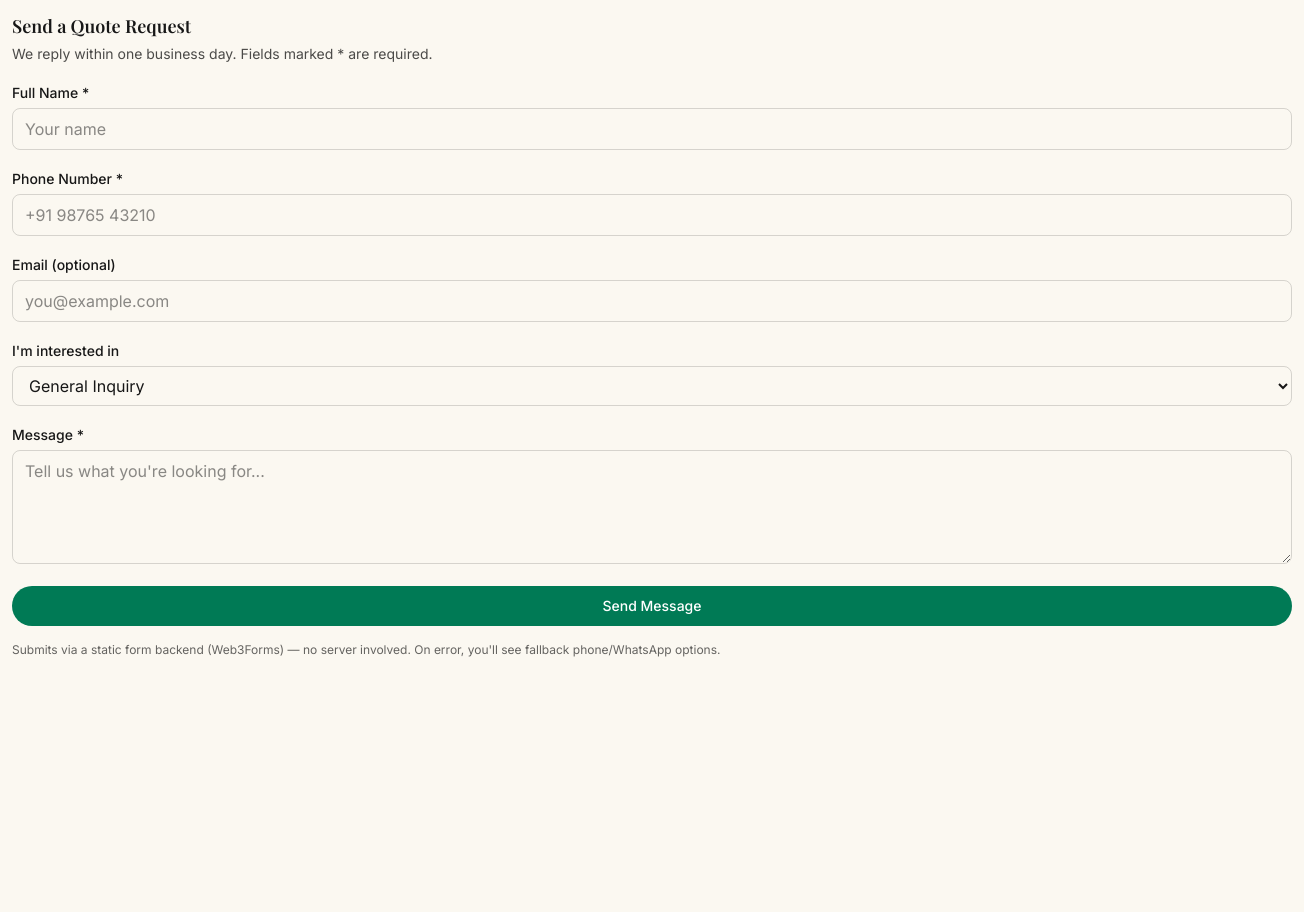
Test: ContactForm › shows a success state on a successful submission
The width and height of the screenshot is (1304, 912).
Type "Anitha R." into the field labelled "Full Name *" at (652,129), box [12,108,1292,150]
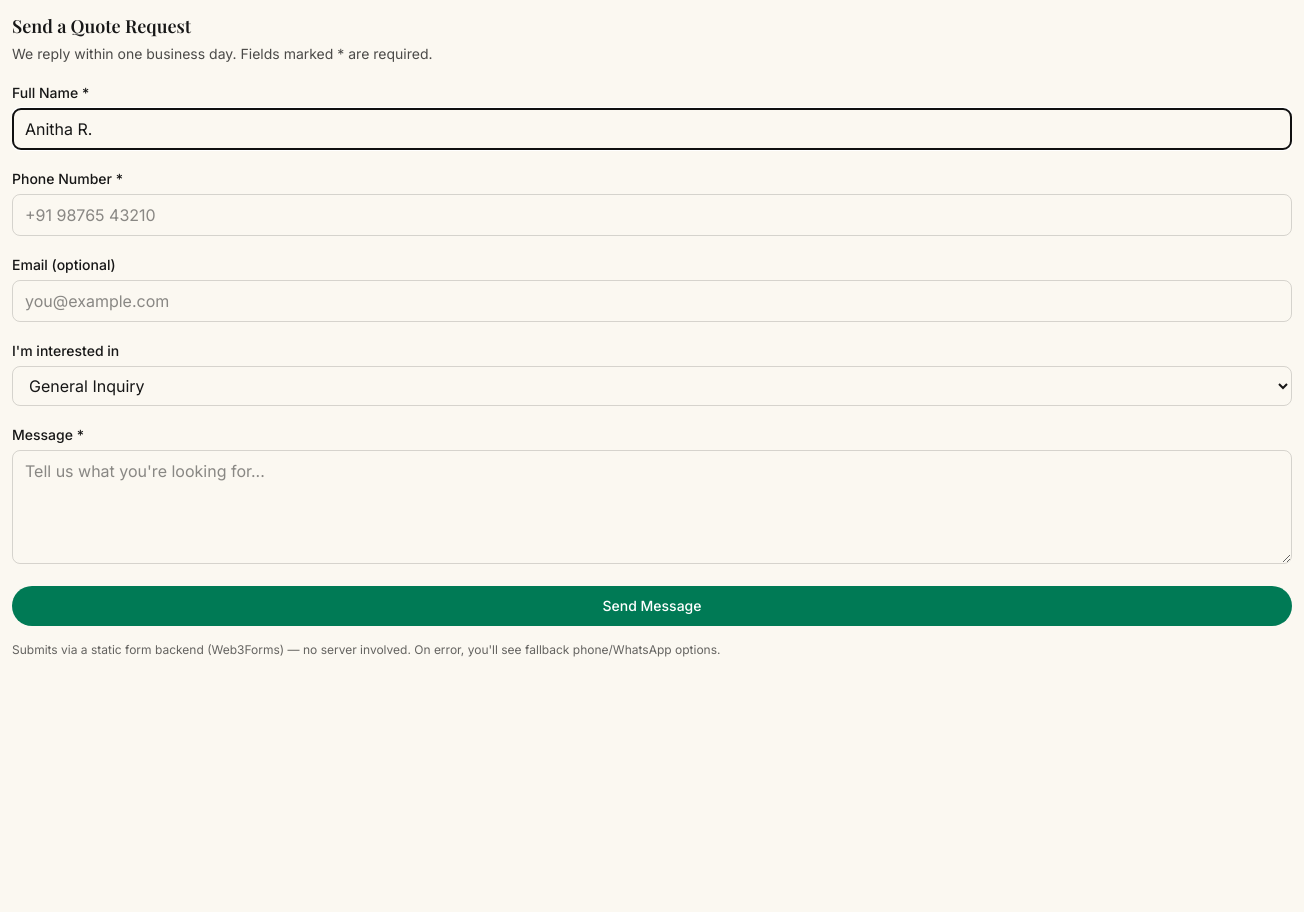
Type "+919876543210" into the field labelled "Phone Number *" at (652,215), box [12,194,1292,236]
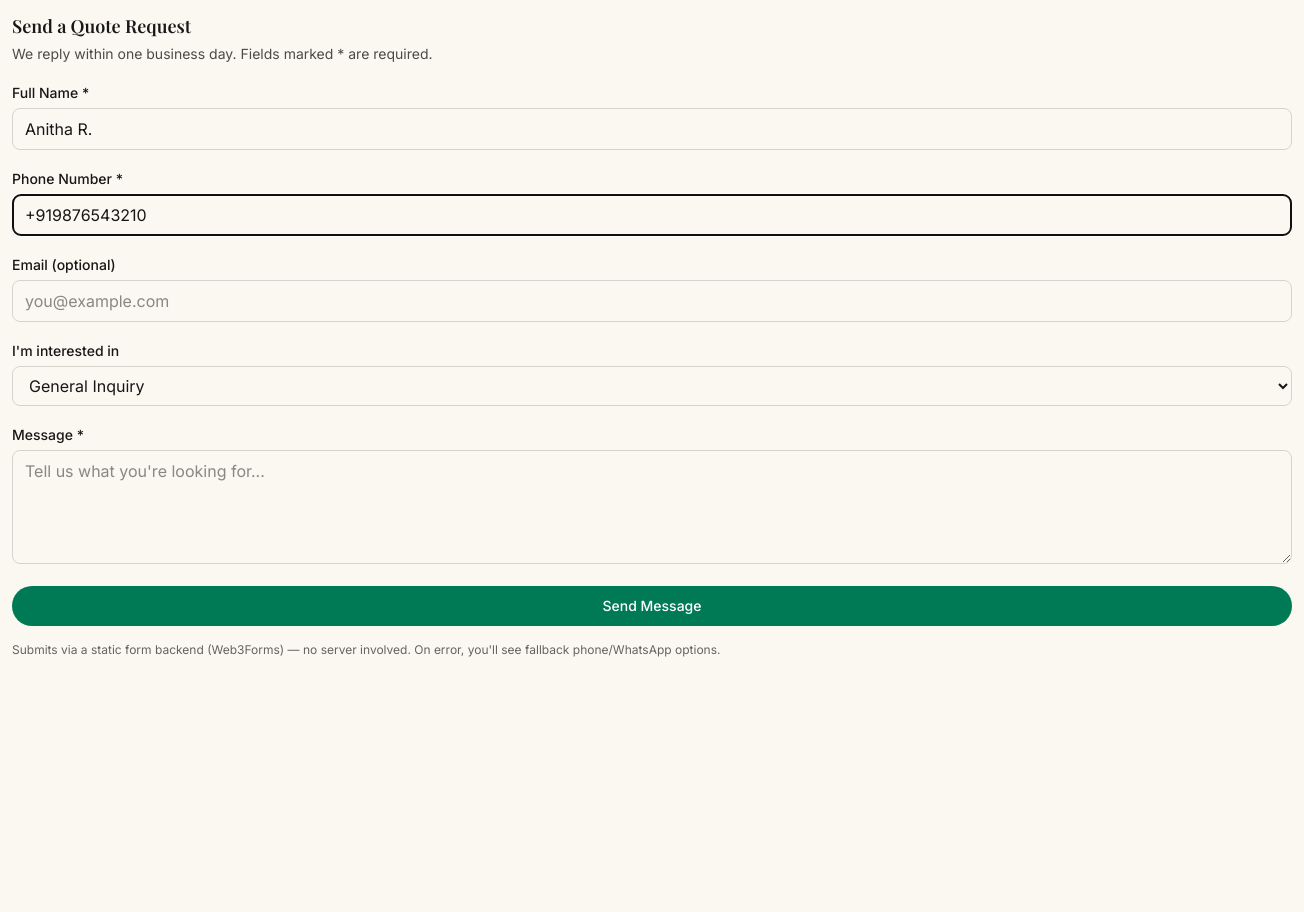
Type "Looking for a garden design quote." into the text box labelled "Message *" at (652,507), box [12,450,1292,564]
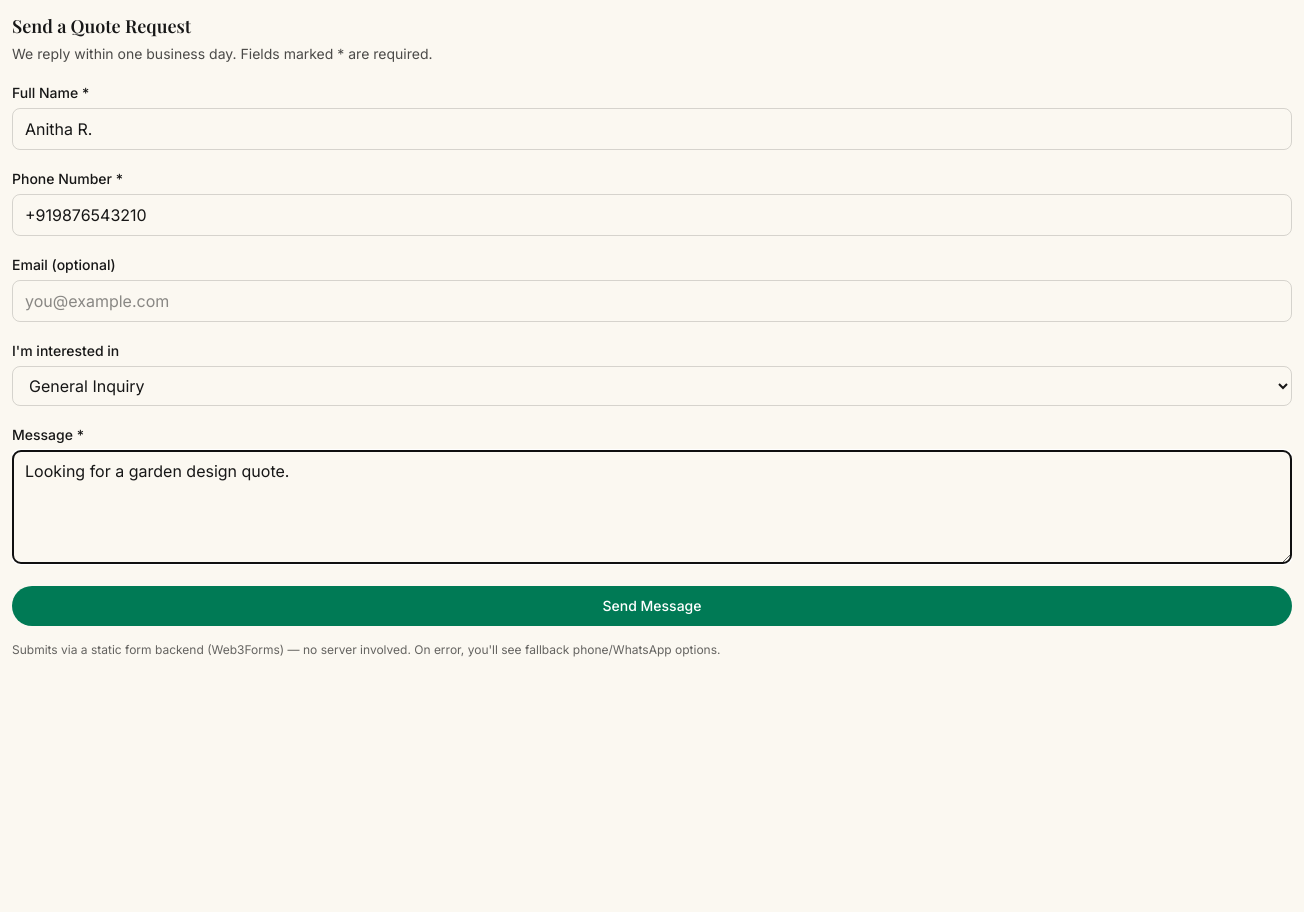
Click the button "Send Message" at (652,606), box [12,586,1292,626]
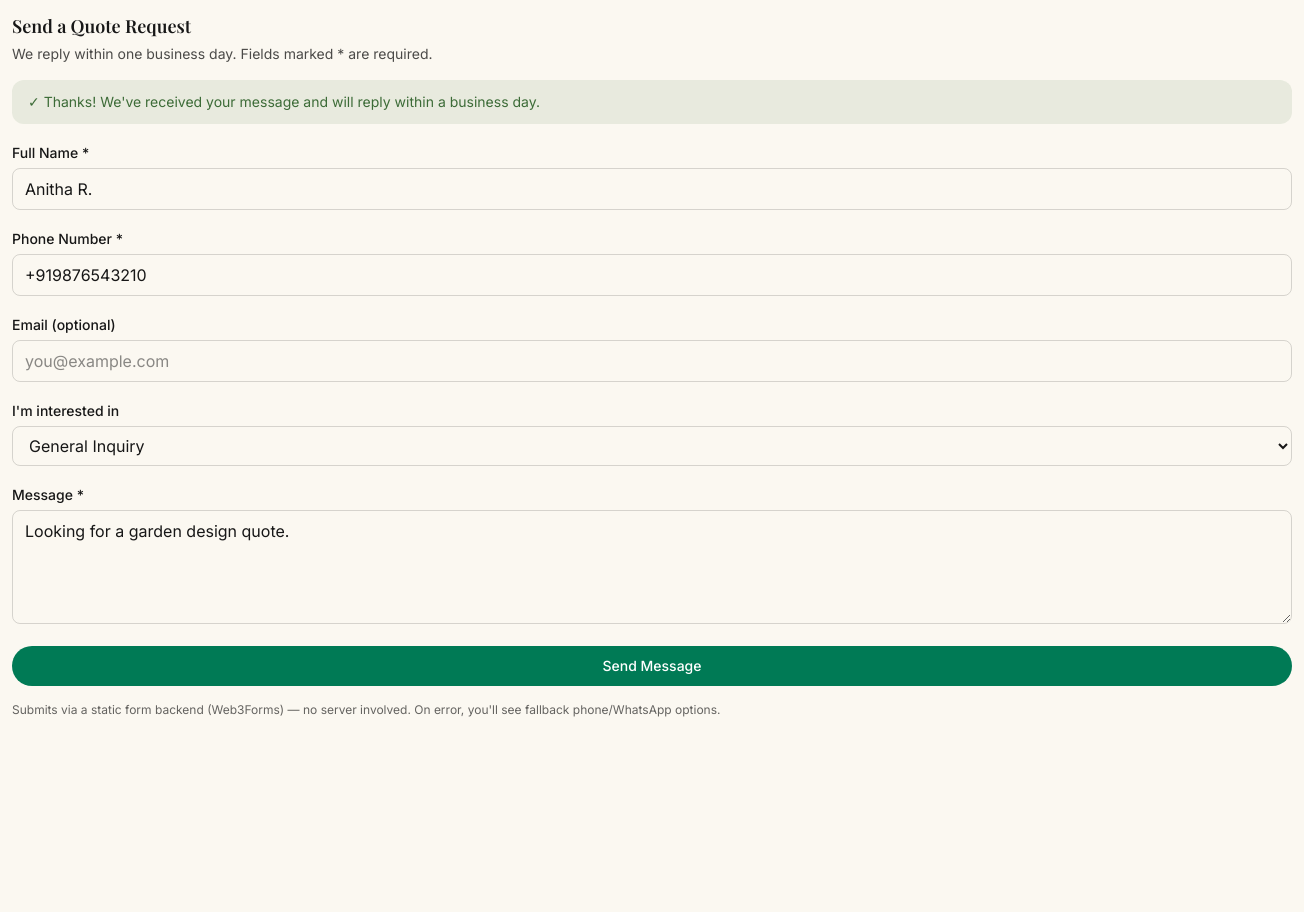
Now the message shows "received your message", box [28,93,540,110]
